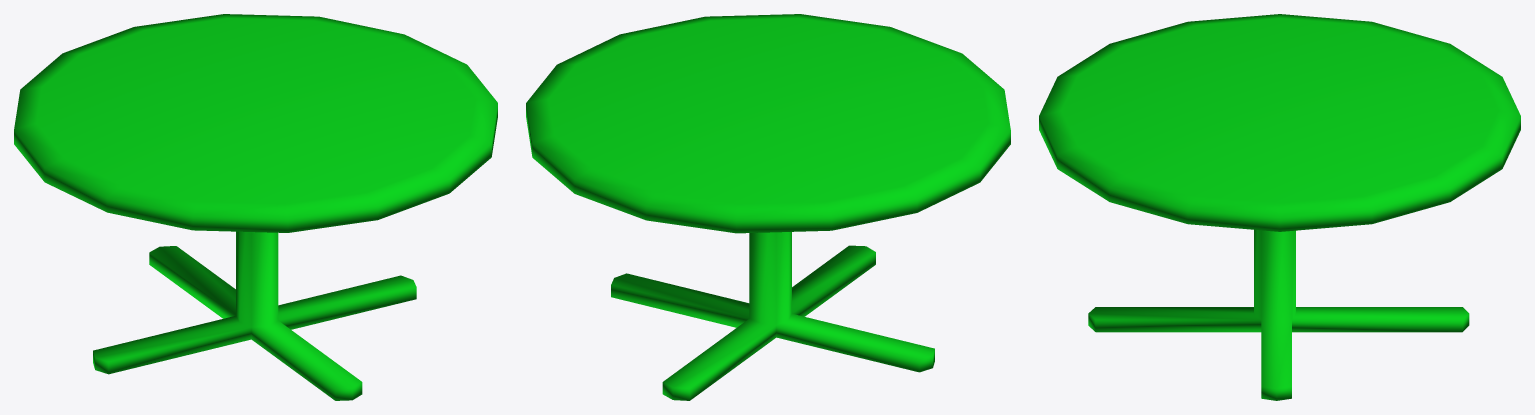
Rendered from table.fbx.
3 renders of one model, left to right at view 1: azimuth 30°, elevation 25°; view 2: azimuth 150°, elevation 25°; view 3: azimuth 270°, elevation 25°, orthographic.
Visible parts, largest first — view 1: Dinnertable.001; view 2: Dinnertable.001; view 3: Dinnertable.001.
Boxes of the visible parts, x1=… form: Dinnertable.001: x1=14, y1=14, x2=497, y2=400; Dinnertable.001: x1=526, y1=14, x2=1010, y2=400; Dinnertable.001: x1=1039, y1=14, x2=1520, y2=400.
Bounding box in the file's own units: 223 × 110 × 223.
